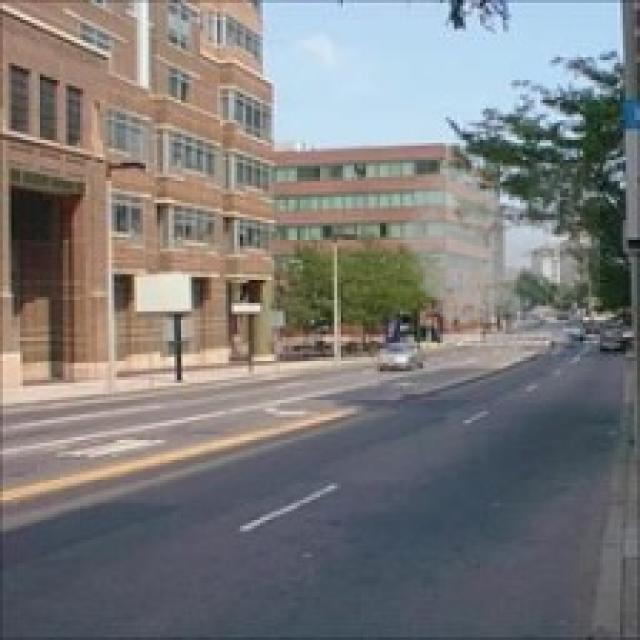Smoke: (388, 160, 600, 363)
